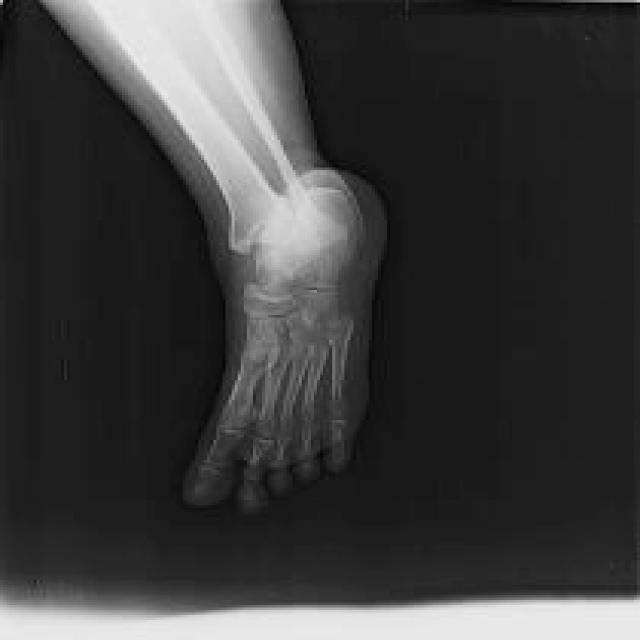normal: (87, 0, 363, 510)
